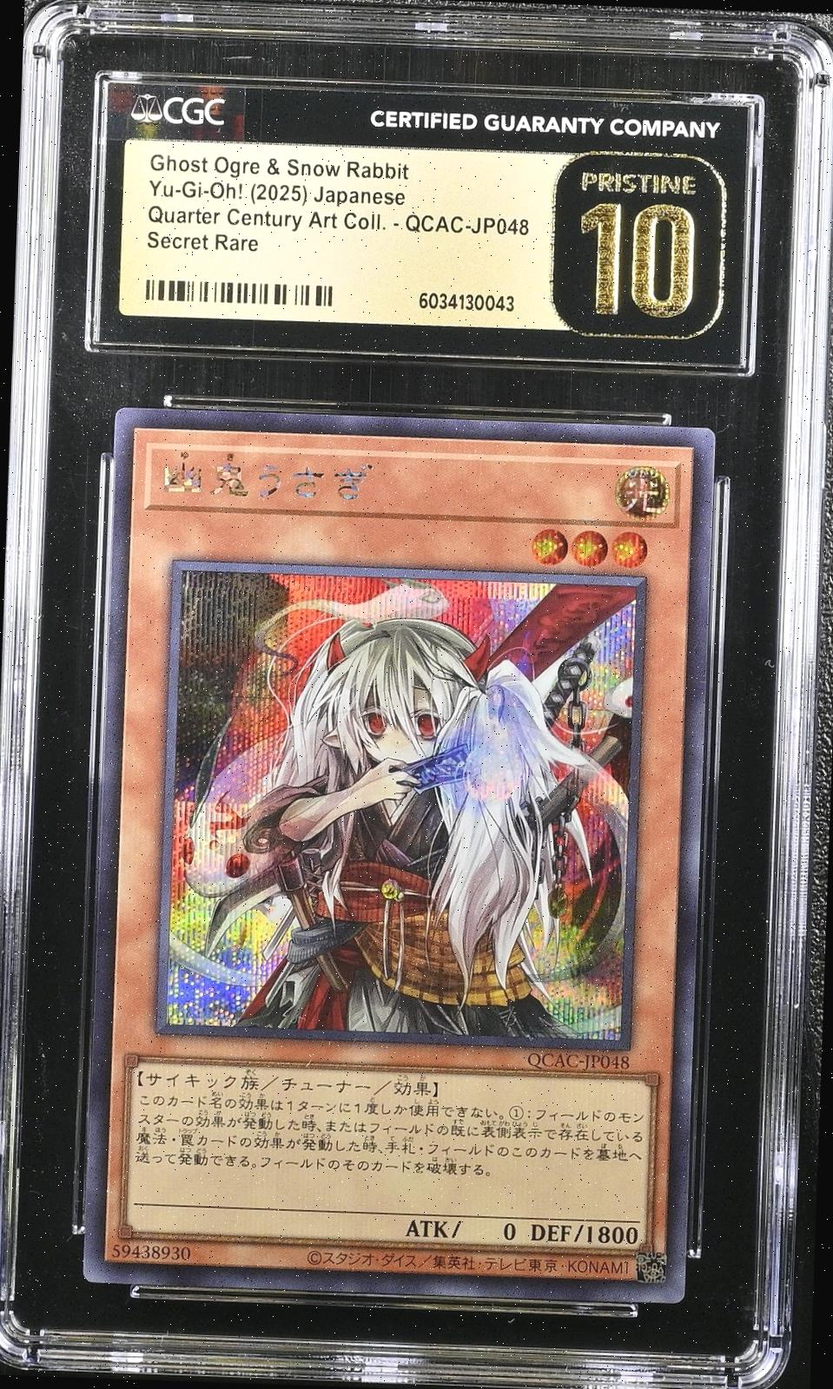card-2UtV: (81, 406, 716, 1305)
